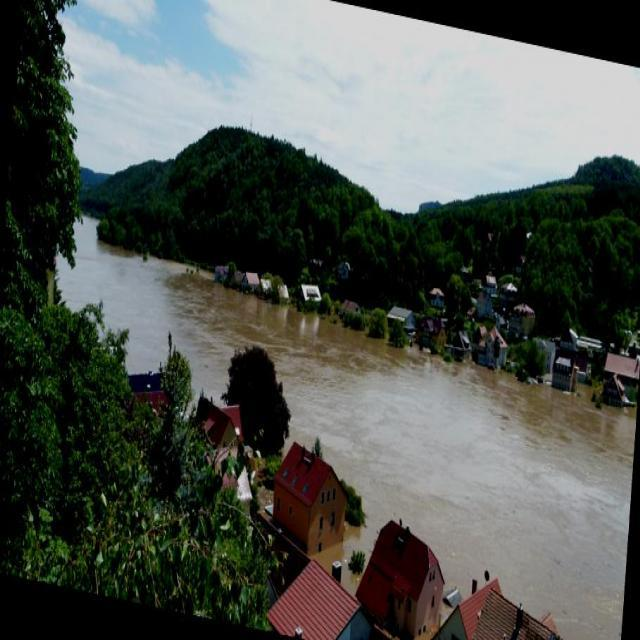flood: (38, 213, 639, 639)
